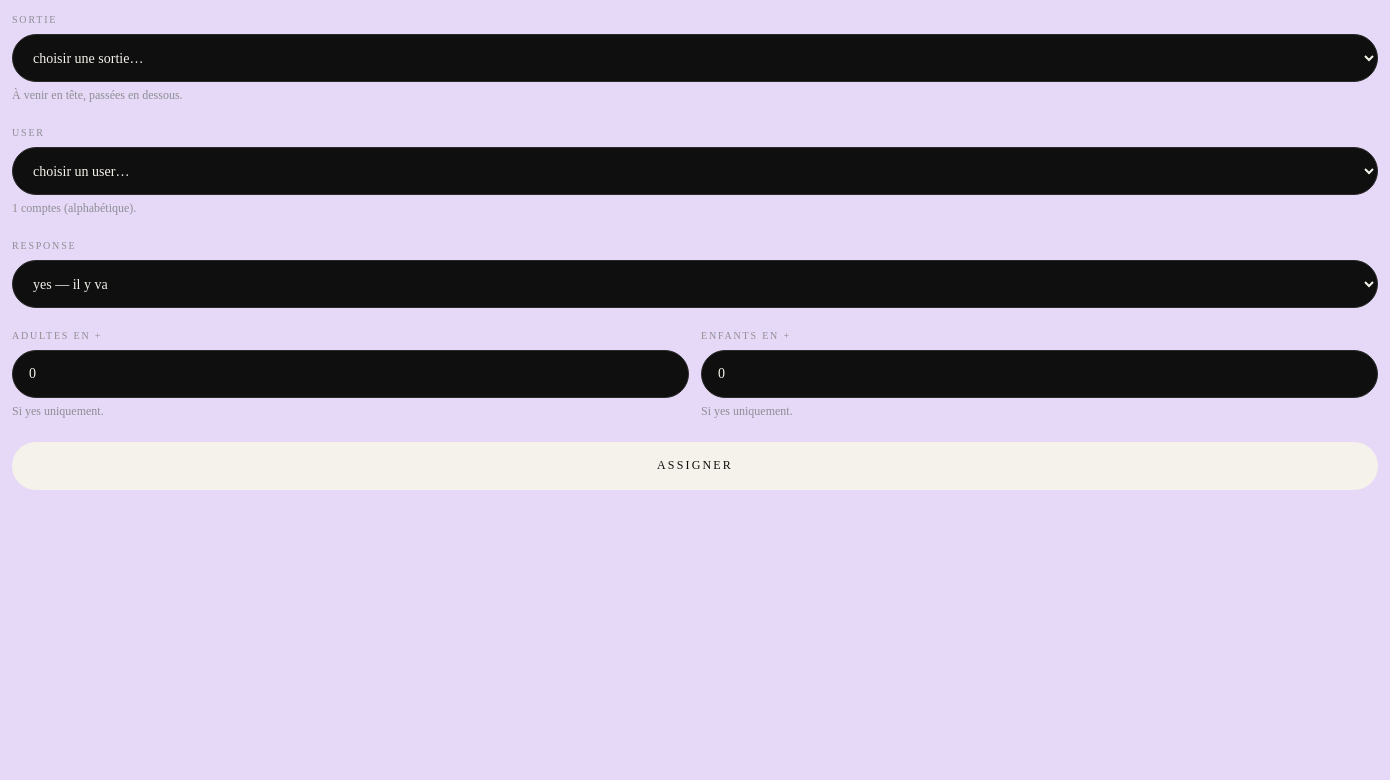
Test: AssignForm › pré-coche les votes existants et annonce qu'ils seront remplacés
The image size is (1390, 780).
Select "Sondage ouvert — à voter" in the dropdown labelled "sortie À venir en tête, passées en dessous." at (695, 58), box [12,34,1378,82]
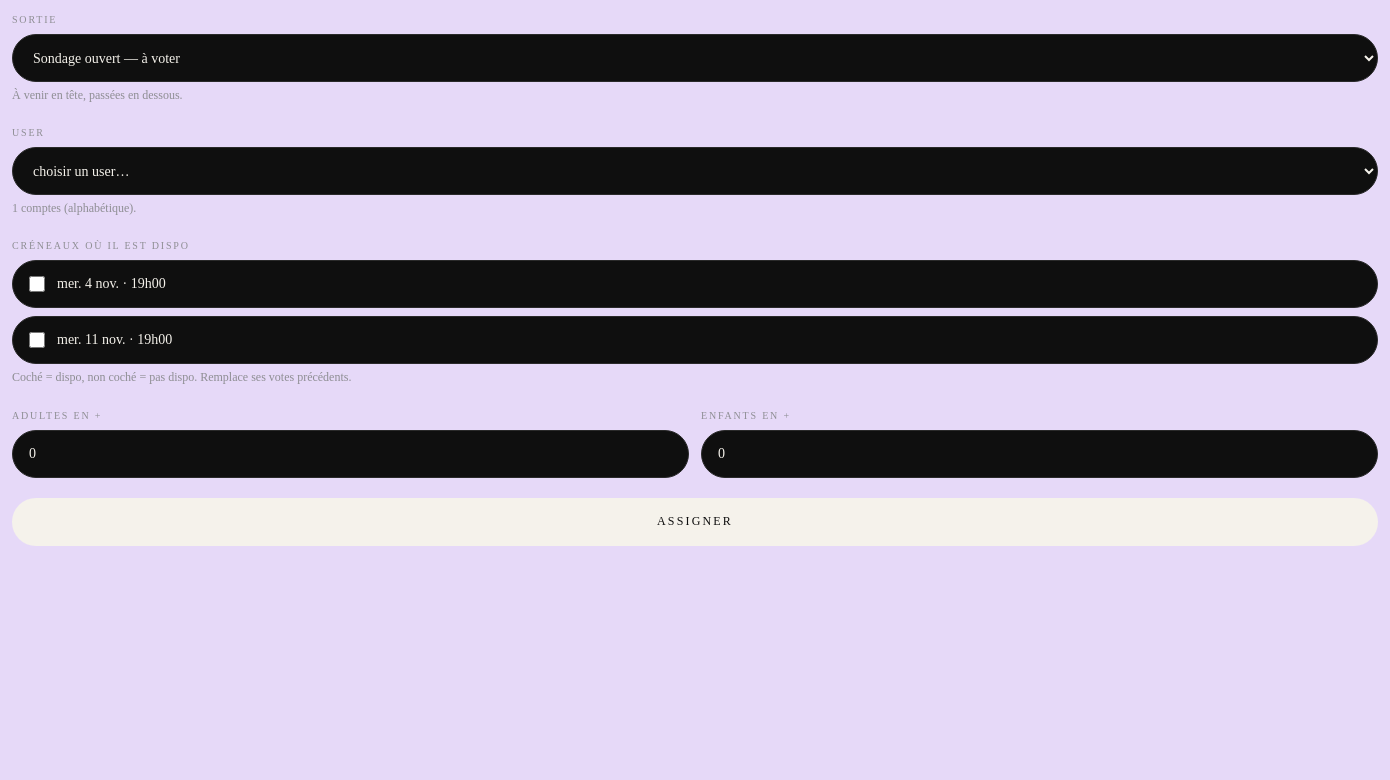
Select "Yves — yves@example.com" in the dropdown labelled "user 1 comptes (alphabétique)." at (695, 171), box [12,147,1378,195]
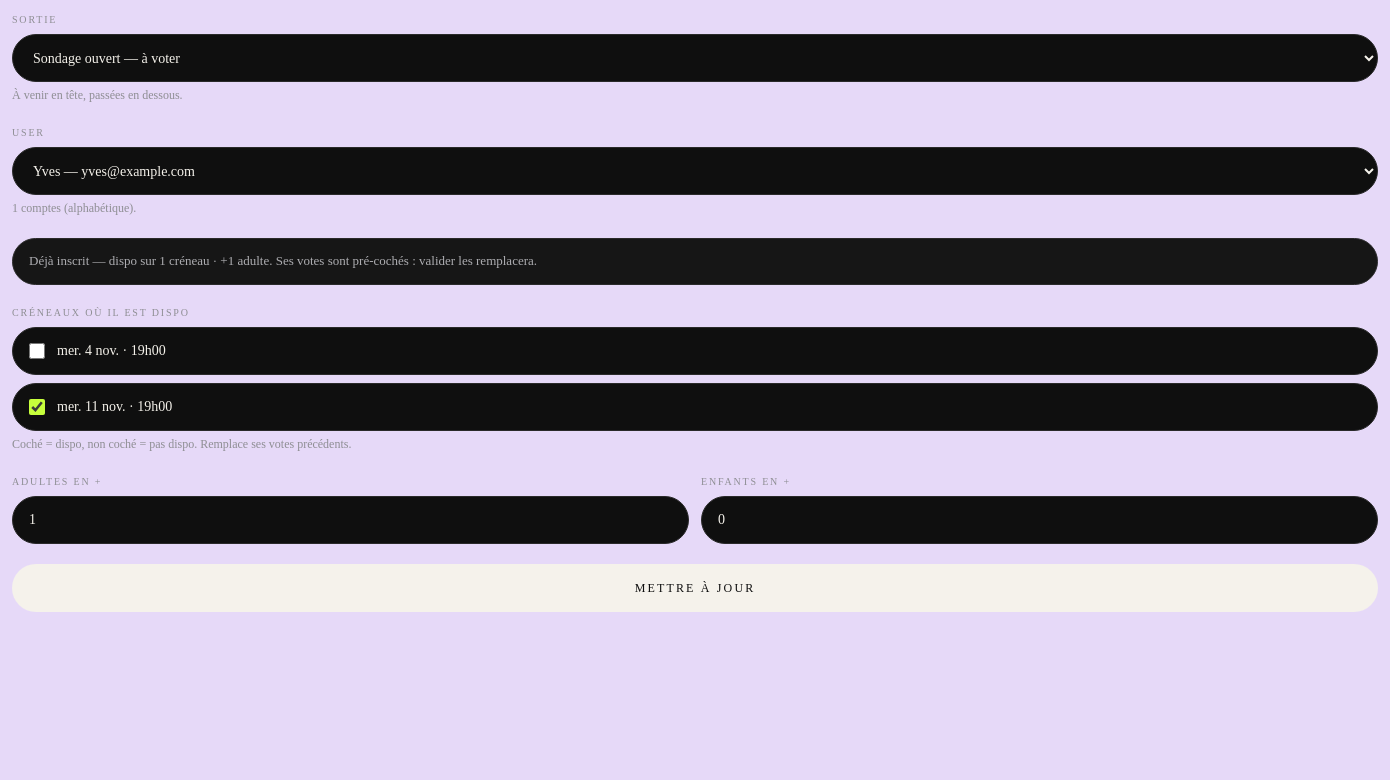
Result: the text "Déjà inscrit — dispo sur 1 créneau · +1 adulte" is shown at [29,253,537,268]
Result: the number field named "extraAdults" holds "1" at [12,496,689,544]
